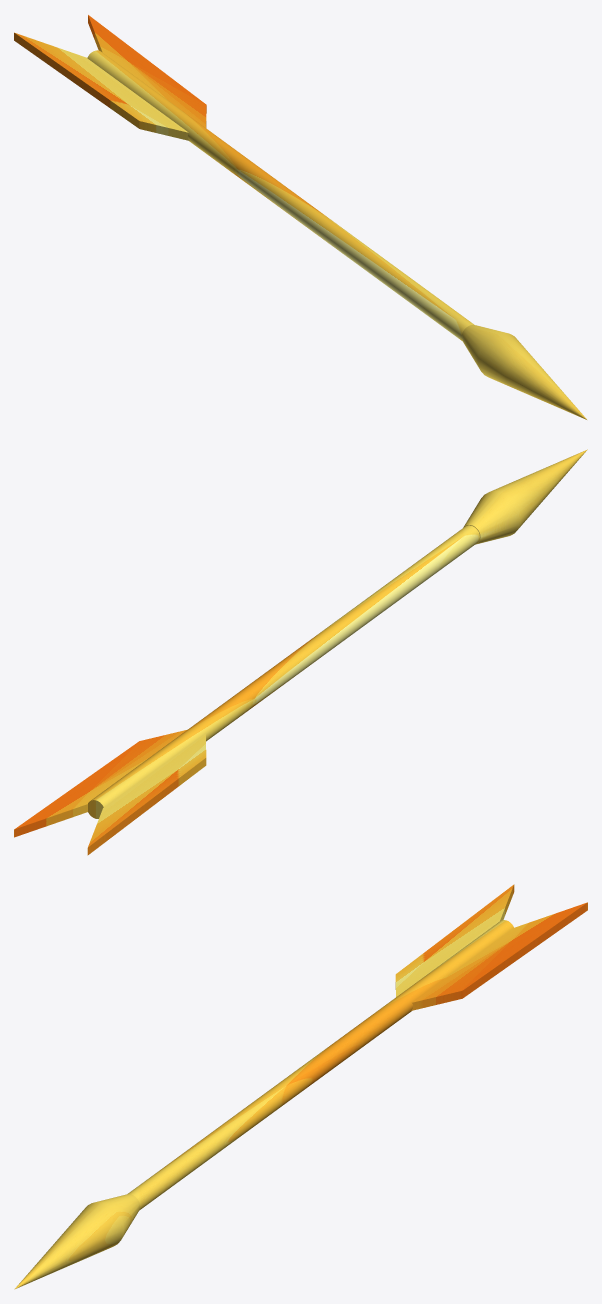
The model's file is Arrow_Fix.fbx.
The picture shows the model from 3 angles, top to bottom: view 1: azimuth 30°, elevation 25°; view 2: azimuth 150°, elevation 25°; view 3: azimuth 330°, elevation 25°; orthographic projection.
Visible parts, largest first — view 1: arrow_01; view 2: arrow_01; view 3: arrow_01.
Boxes of the visible parts, x1,y1,x2,y2 form: arrow_01: [14, 15, 586, 419]; arrow_01: [14, 449, 587, 855]; arrow_01: [14, 884, 587, 1289].
Bounding box in the file's own units: 8.32 × 4.8 × 105.
